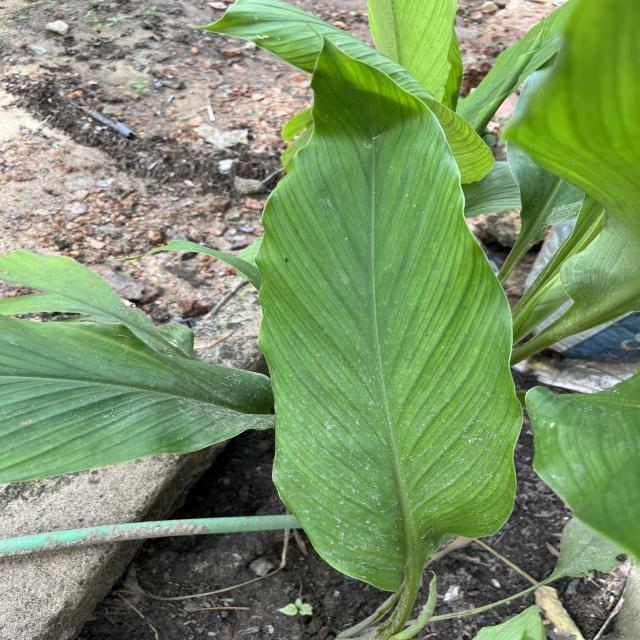Curcuma longa: (250, 18, 531, 596)
